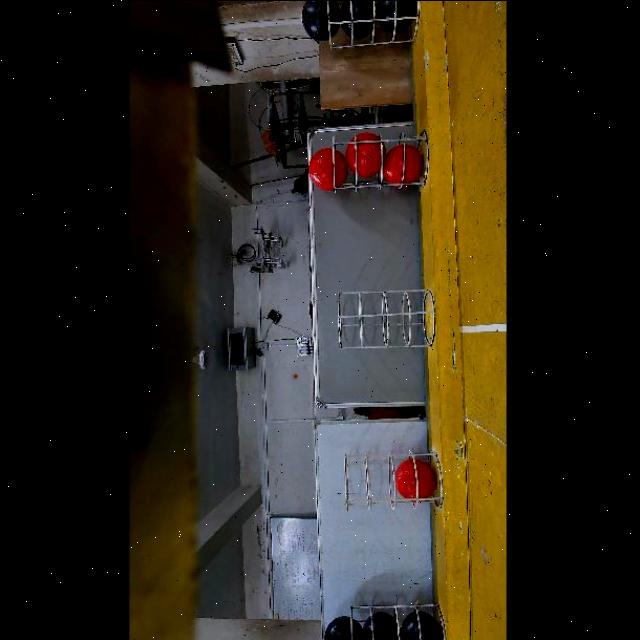P: (302, 0, 341, 41), (400, 608, 442, 640), (341, 0, 374, 38), (376, 0, 414, 32), (362, 611, 398, 640), (325, 615, 363, 640)
R: (396, 458, 436, 501), (309, 148, 349, 189), (384, 144, 424, 184), (347, 132, 384, 175)
S: (338, 282, 442, 350), (328, 135, 436, 191), (344, 451, 444, 507), (329, 1, 419, 52), (346, 600, 442, 640)
